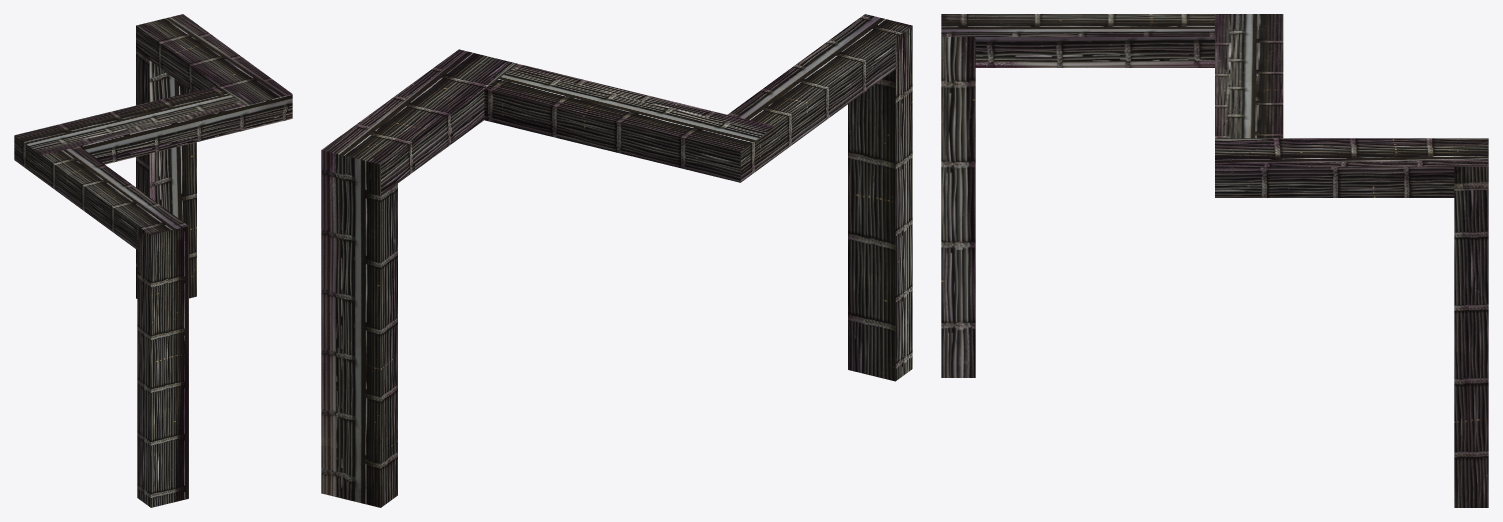
File: wires.fbx
3 views of the same model, side by side, from view 1: azimuth 30°, elevation 25°; view 2: azimuth 150°, elevation 25°; view 3: azimuth 270°, elevation 25° (orthographic). The views are drawn at different scales.
Parts seen in each view (by area): view 1: wires; view 2: wires; view 3: wires.
Part boxes in pixels (x1,y1,x2,y2): wires: (14, 14, 292, 507); wires: (321, 14, 912, 507); wires: (941, 14, 1488, 507).
Bounding box in the file's own units: 2.65 × 2.75 × 4.
